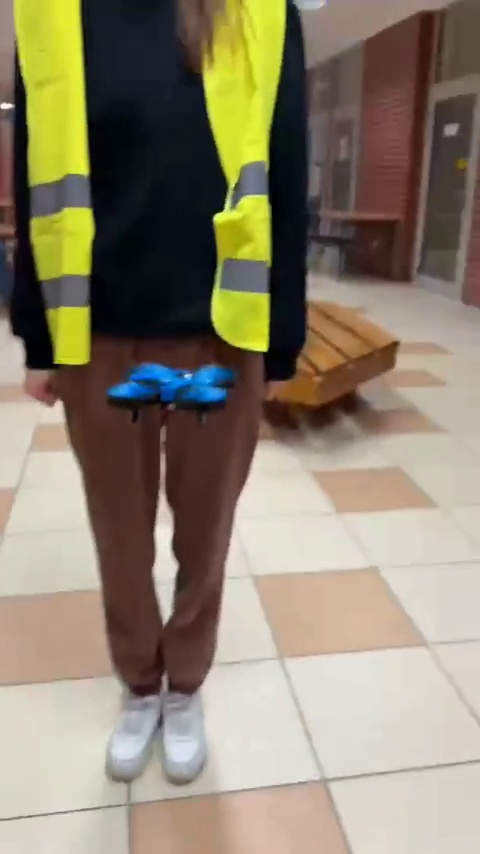drone: (102, 355, 246, 431)
vest: (8, 61, 310, 794)
